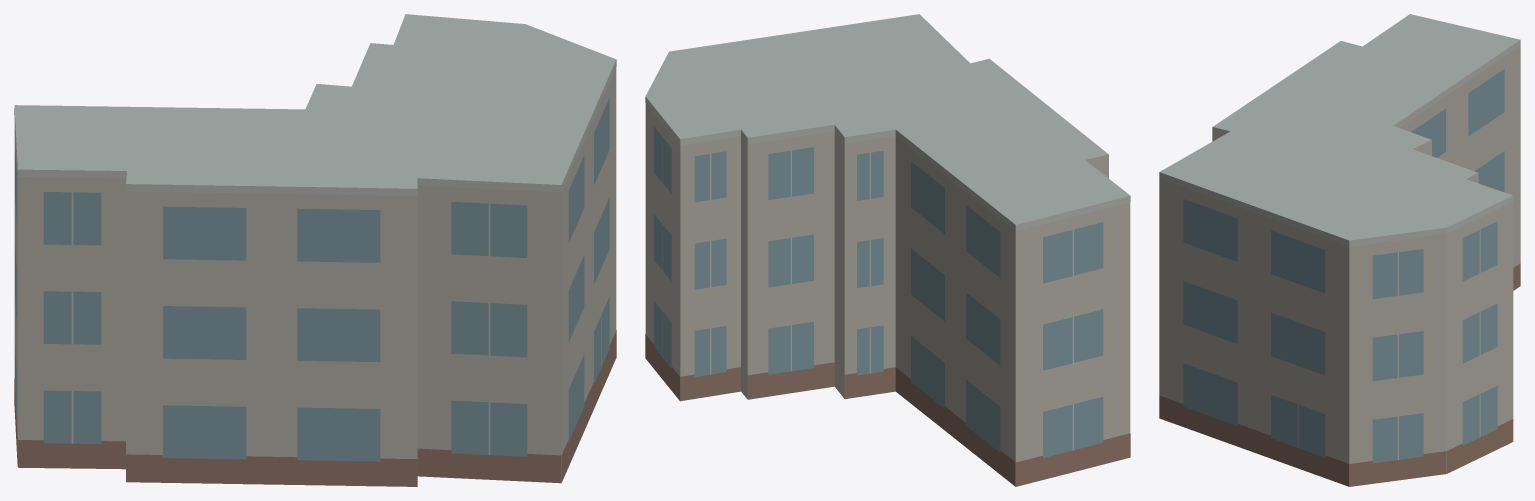
The model's file is survey-upis-32480124.glb.
3 views of the same model, side by side, from view 1: azimuth 30°, elevation 25°; view 2: azimuth 150°, elevation 25°; view 3: azimuth 270°, elevation 25° (orthographic). The views are drawn at different scales.
Visible parts, largest first — view 1: survey-upis-32480124.tmp; view 2: survey-upis-32480124.tmp; view 3: survey-upis-32480124.tmp.
Boxes of the visible parts, <box> form: survey-upis-32480124.tmp: <box>14,14,616,486</box>; survey-upis-32480124.tmp: <box>645,14,1130,486</box>; survey-upis-32480124.tmp: <box>1159,14,1520,486</box>.
Bounding box in the file's own units: 19.44 × 9.85 × 13.1.
